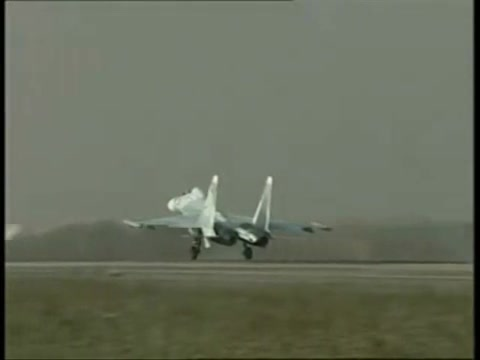aeroplane: (124, 174, 336, 264)
